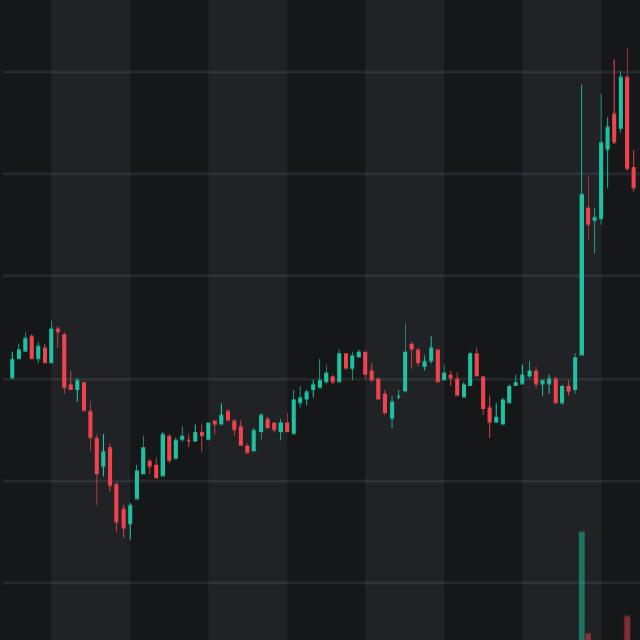Resistance-breakout: (395, 41, 634, 444)
